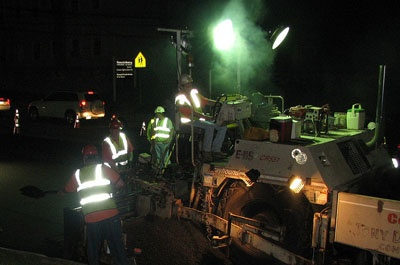red: (78, 144, 103, 166), (107, 116, 122, 136)
white: (178, 73, 195, 93), (153, 104, 166, 119)
